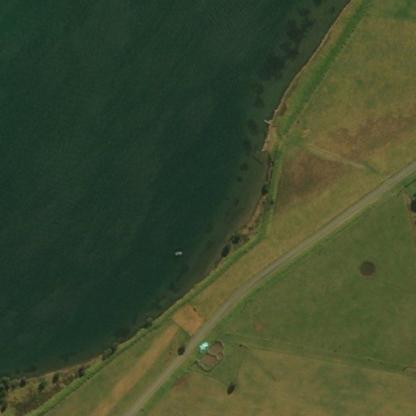ship: (171, 243, 185, 260)
